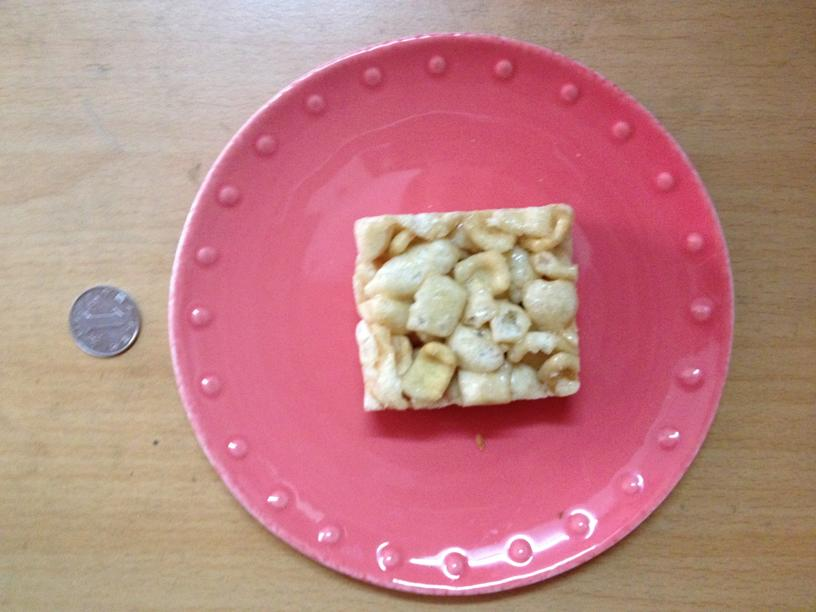coin: (68, 288, 143, 356)
sachima: (346, 209, 583, 409)
